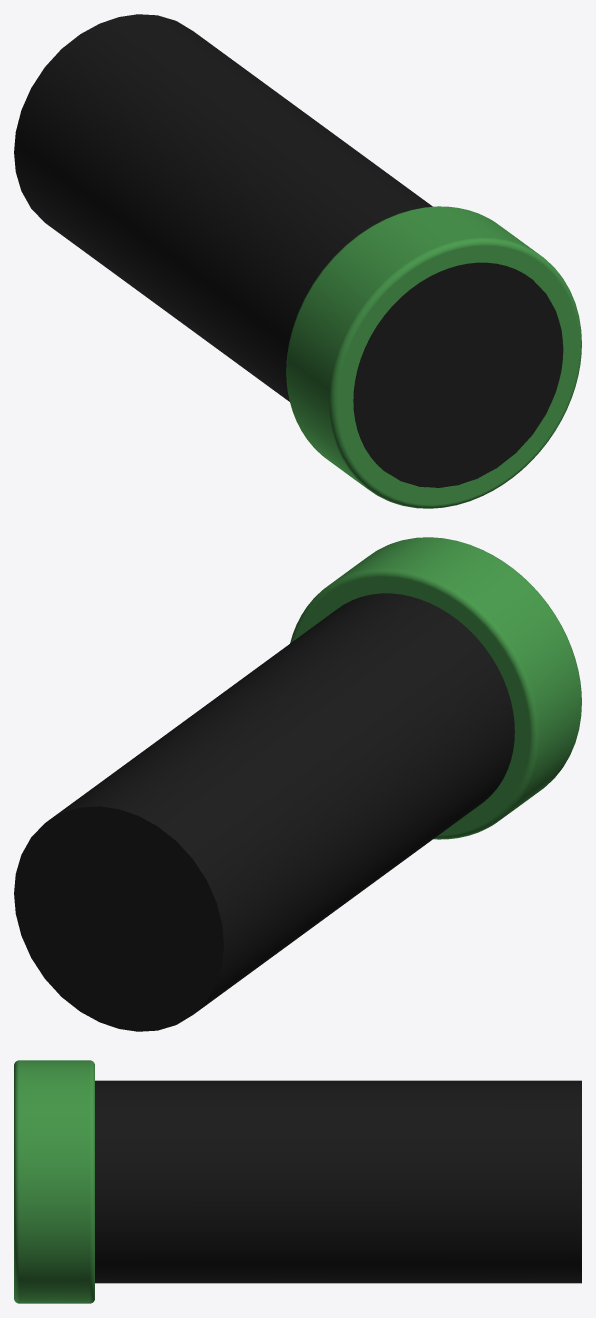
The model's file is Super Mario Pipe.fbx.
3 renders of one model, top to bottom at view 1: azimuth 30°, elevation 25°; view 2: azimuth 150°, elevation 25°; view 3: azimuth 270°, elevation 25°, orthographic. The views are drawn at different scales.
Parts seen in each view (by area): view 1: Body2, Body1; view 2: Body2, Body1; view 3: Body2, Body1.
Part boxes in pixels (x1,y1,x2,y2): Body2: (14,14,563,487); Body1: (286,206,581,508); Body2: (14,593,514,1031); Body1: (290,537,581,839); Body2: (95,1080,581,1283); Body1: (14,1060,94,1303).
Bounding box in the file's own units: 90 × 90 × 210.
